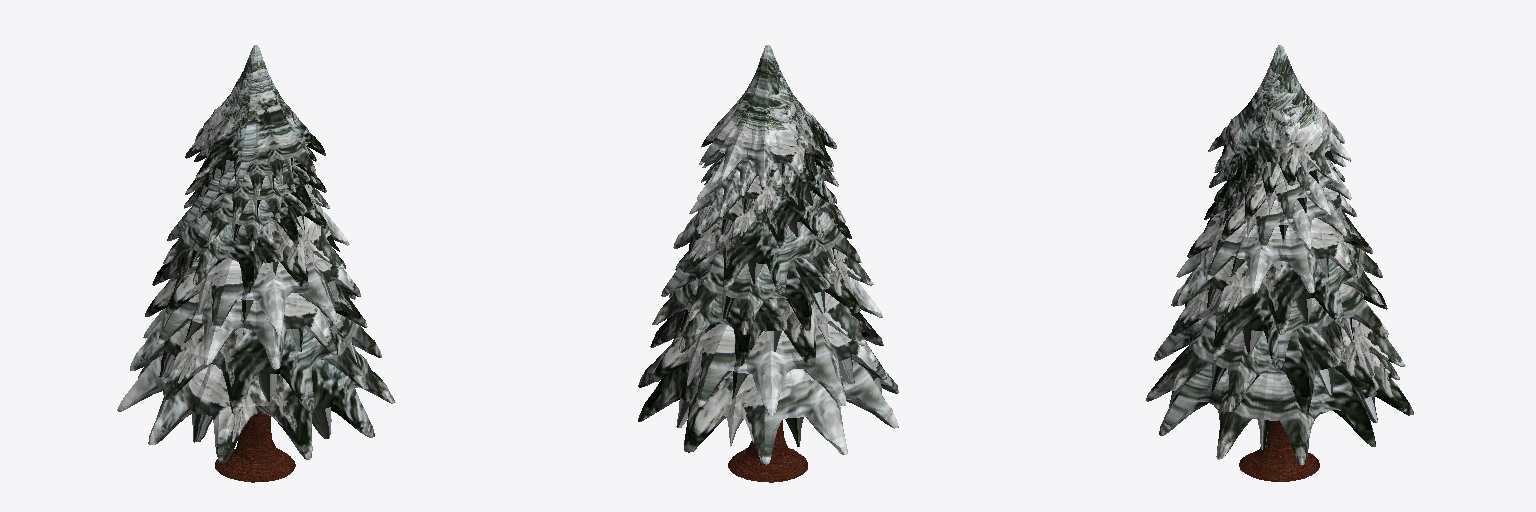
3 renders of one model, left to right at view 1: azimuth 30°, elevation 25°; view 2: azimuth 150°, elevation 25°; view 3: azimuth 270°, elevation 25°, orthographic.
Visible parts, largest first — view 1: pCone8, pCone9, pCone1, pCone6, pCone5, pCone7, pCone4, pCylinder1, pCone3, pCone2; view 2: pCone8, pCone9, pCone1, pCone6, pCone7, pCone5, pCone4, pCone3, pCylinder1, pCone2; view 3: pCone8, pCone9, pCone1, pCone6, pCone5, pCone7, pCone4, pCone3, pCylinder1, pCone2.
Boxes of the visible parts, x1=… form: pCone8: x1=117, y1=346, x2=395, y2=462; pCone9: x1=130, y1=308, x2=381, y2=414; pCone1: x1=185, y1=45, x2=325, y2=185; pCone6: x1=152, y1=249, x2=360, y2=334; pCone5: x1=163, y1=204, x2=349, y2=293; pCone7: x1=145, y1=275, x2=367, y2=369; pCone4: x1=181, y1=184, x2=329, y2=250; pCylinder1: x1=215, y1=413, x2=295, y2=482; pCone3: x1=185, y1=166, x2=326, y2=221; pCone2: x1=194, y1=146, x2=316, y2=197; pCone8: x1=638, y1=345, x2=898, y2=464; pCone9: x1=650, y1=310, x2=886, y2=416; pCone1: x1=699, y1=45, x2=836, y2=186; pCone6: x1=661, y1=249, x2=873, y2=334; pCone7: x1=652, y1=276, x2=882, y2=366; pCone5: x1=673, y1=205, x2=861, y2=294; pCone4: x1=689, y1=188, x2=845, y2=249; pCone3: x1=697, y1=165, x2=838, y2=223; pCylinder1: x1=728, y1=420, x2=807, y2=482; pCone2: x1=702, y1=153, x2=833, y2=196; pCone8: x1=1146, y1=345, x2=1413, y2=464; pCone9: x1=1154, y1=305, x2=1405, y2=413; pCone1: x1=1208, y1=45, x2=1351, y2=185; pCone6: x1=1176, y1=242, x2=1383, y2=334; pCone5: x1=1187, y1=210, x2=1372, y2=293; pCone7: x1=1171, y1=271, x2=1387, y2=369; pCone4: x1=1204, y1=182, x2=1356, y2=249; pCone3: x1=1209, y1=160, x2=1351, y2=222; pCylinder1: x1=1239, y1=420, x2=1319, y2=481; pCone2: x1=1214, y1=152, x2=1345, y2=196.
Bounding box in the file's own units: 6.11 × 10.39 × 5.99.
Materials: 2 (2 with a texture image).